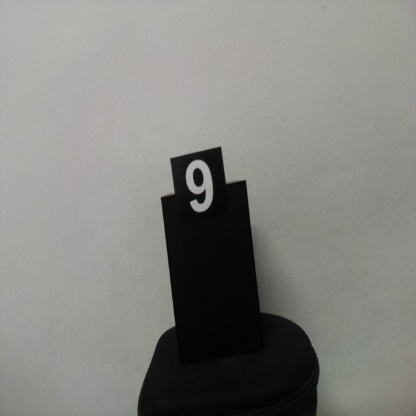id_9: (170, 157, 229, 237)
